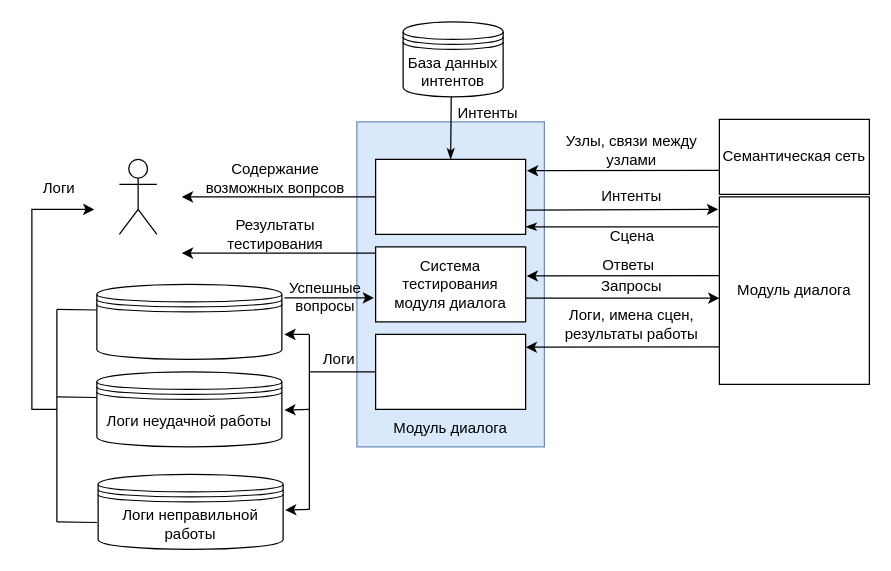
Image size: 891x571. Some labels were removed from this diagram. The box of each missing label's shape, as (x1, y1, x2, y2) in pixels:
Логи успешной работы: (96, 283, 282, 359)
Система сбора аналитики: (374, 333, 526, 409)
Система тестирования семантической сети: (374, 158, 526, 234)
